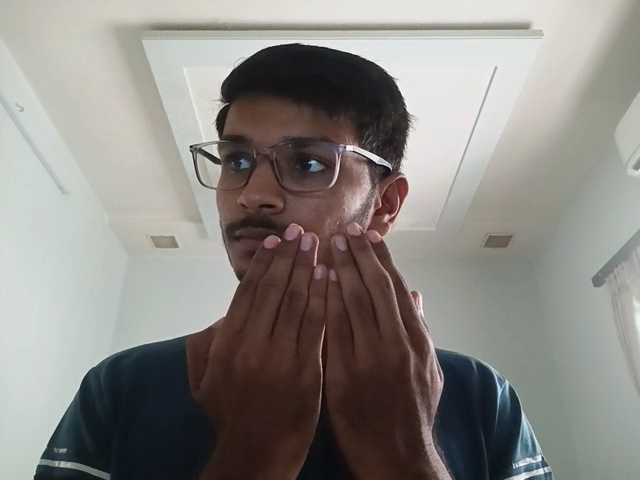Thank You: (178, 218, 458, 453)
